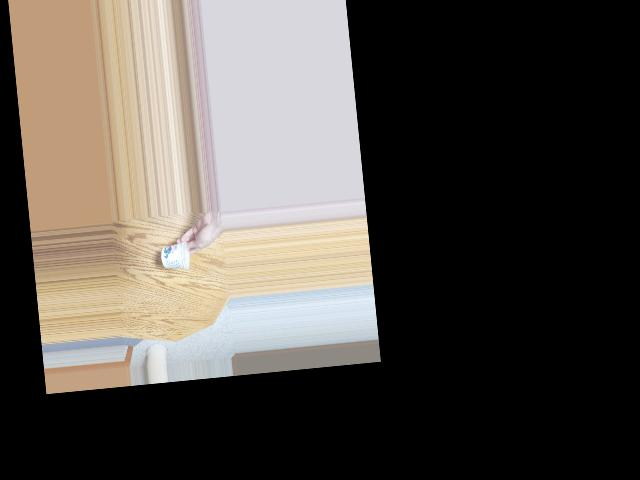cotage: (157, 243, 193, 278)
